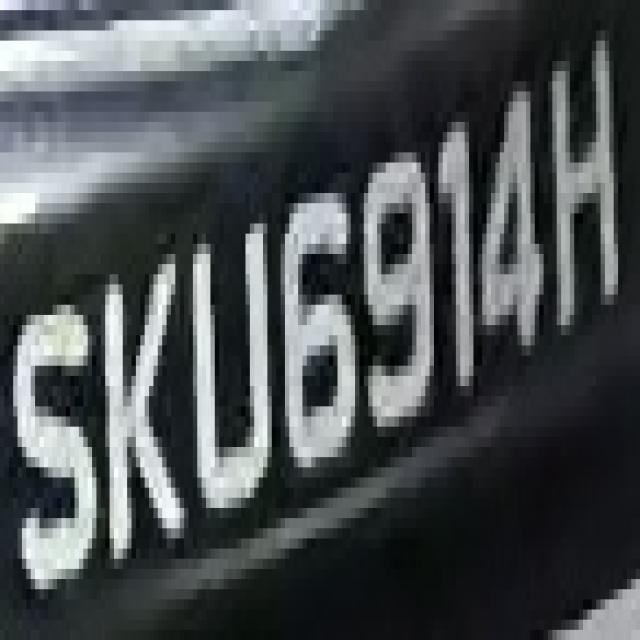1: (434, 81, 491, 427)
4: (478, 81, 544, 376)
6: (272, 162, 359, 488)
9: (351, 132, 434, 457)
H: (543, 31, 627, 356)
K: (92, 213, 184, 590)
S: (0, 274, 96, 599)
U: (175, 183, 272, 538)
